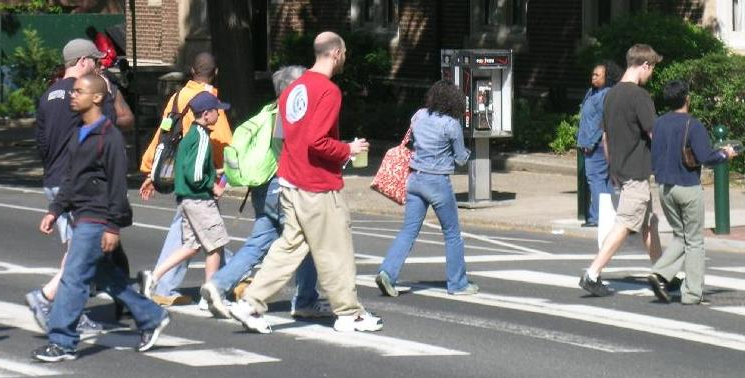pedestrian: (229, 32, 383, 335), (32, 74, 170, 362), (375, 83, 478, 298), (580, 44, 663, 298), (648, 83, 737, 304), (137, 91, 229, 300)
